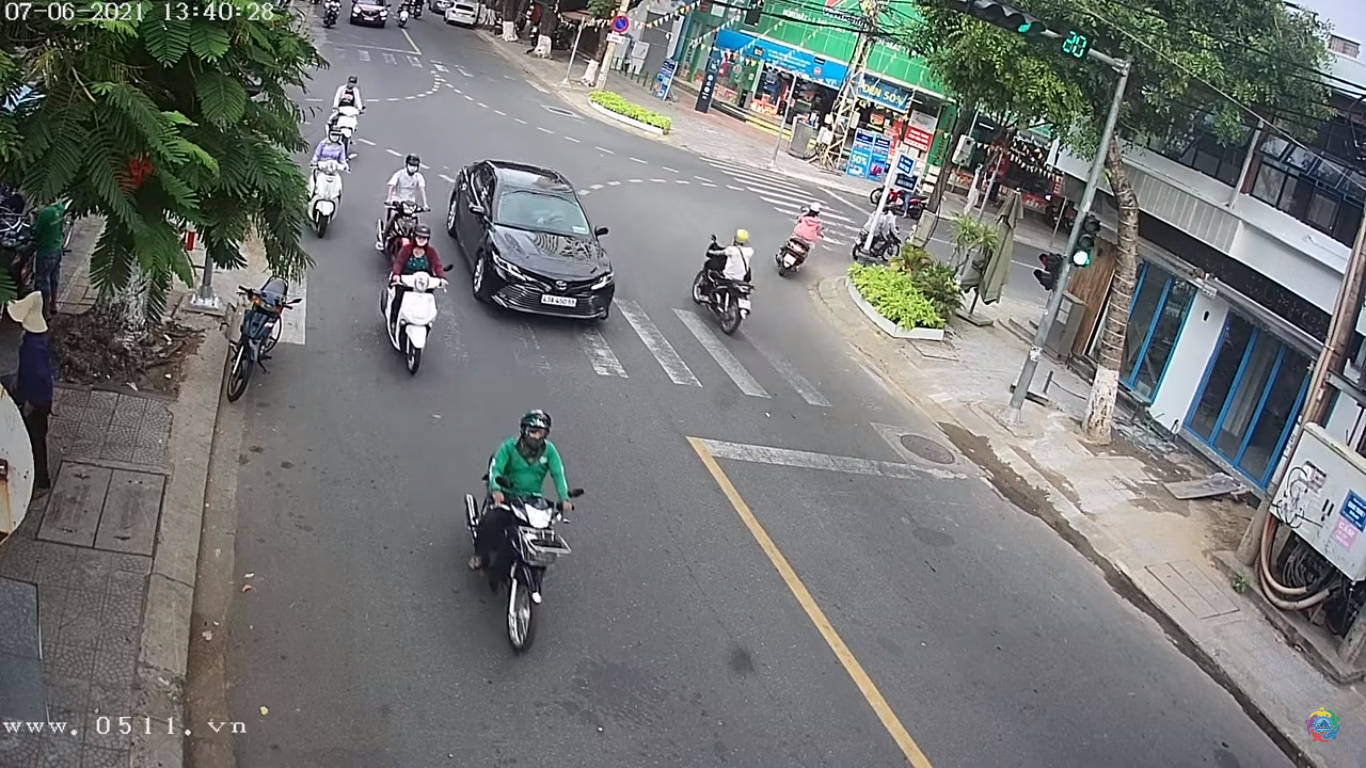car: (447, 154, 616, 326)
